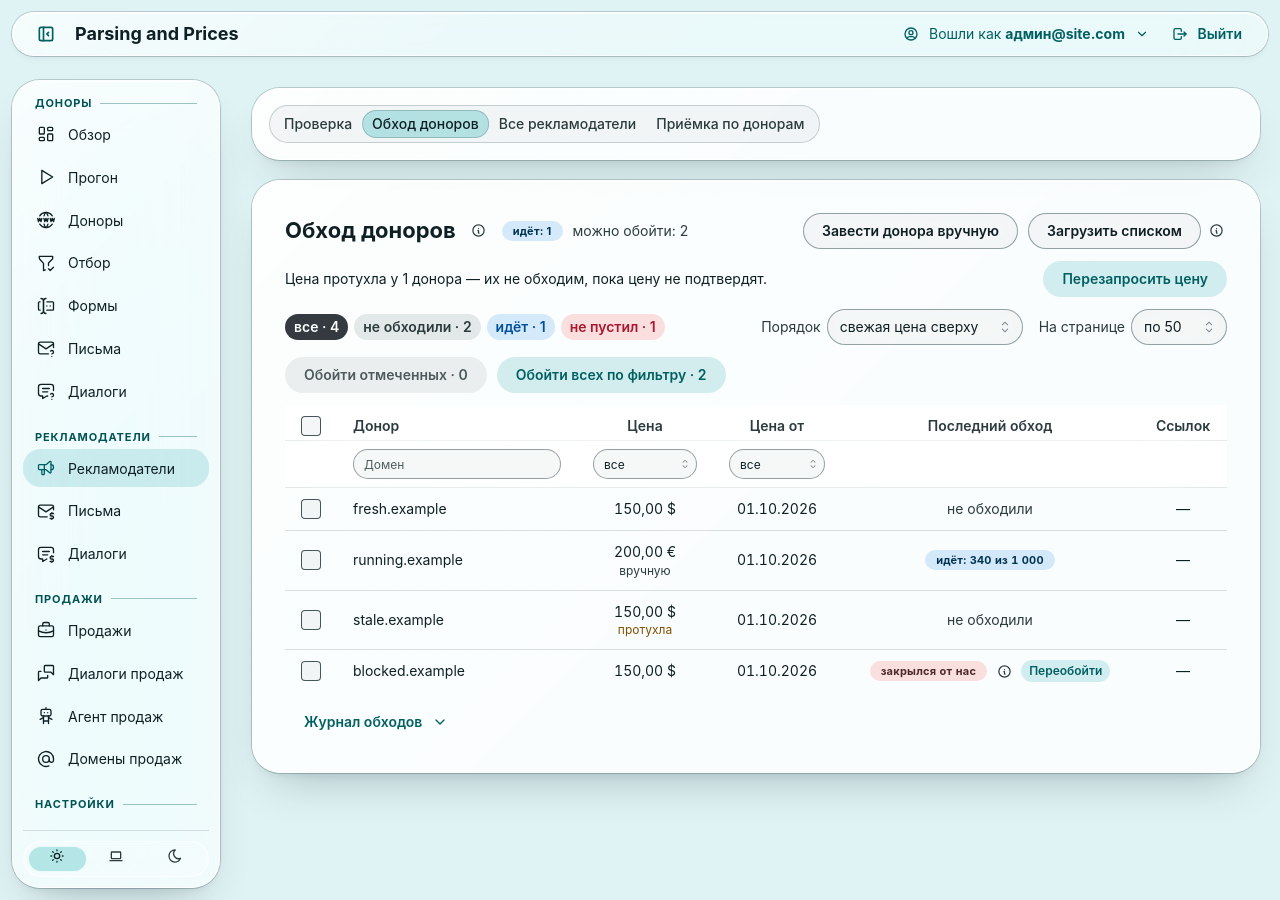
Scenario: вкладка «Обход доноров» › отмечается только тот, кого можно обойти; отмеченные уходят на сервер, исход — словами
Expected: the checkbox named "running.example: обход уже идёт или ждёт" is disabled, top-left (301, 550), bottom-right (321, 570)
Expected: the checkbox named "stale.example: цена протухла — сначала перезапрос" is disabled, top-left (301, 610), bottom-right (321, 630)
Step 1. Click the checkbox named "Обойти fresh.example" → point(311, 509), box top-left (301, 499), bottom-right (321, 519)
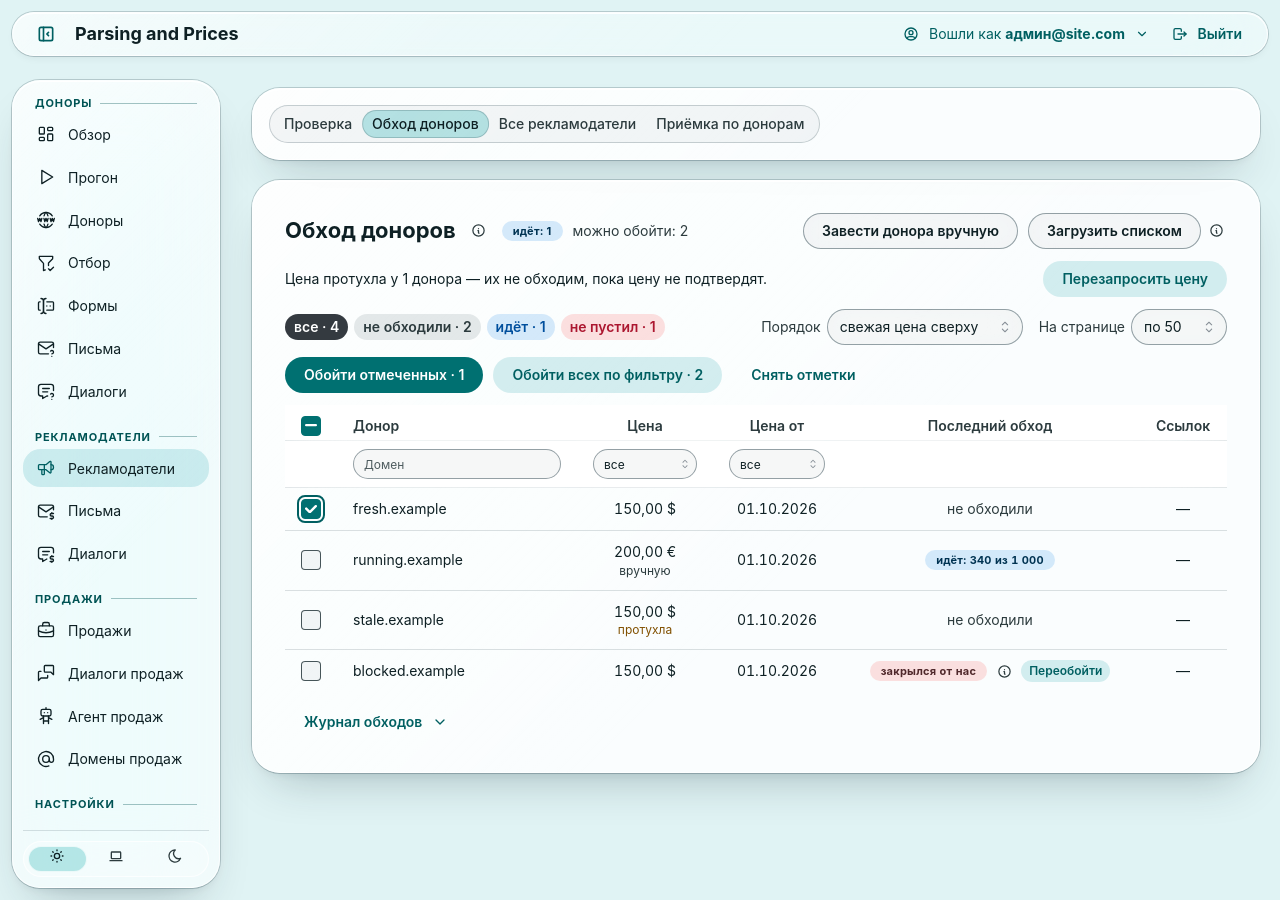
Step 2. Click the button "Обойти отмеченных · 1" → point(384, 375), box top-left (285, 357), bottom-right (483, 393)
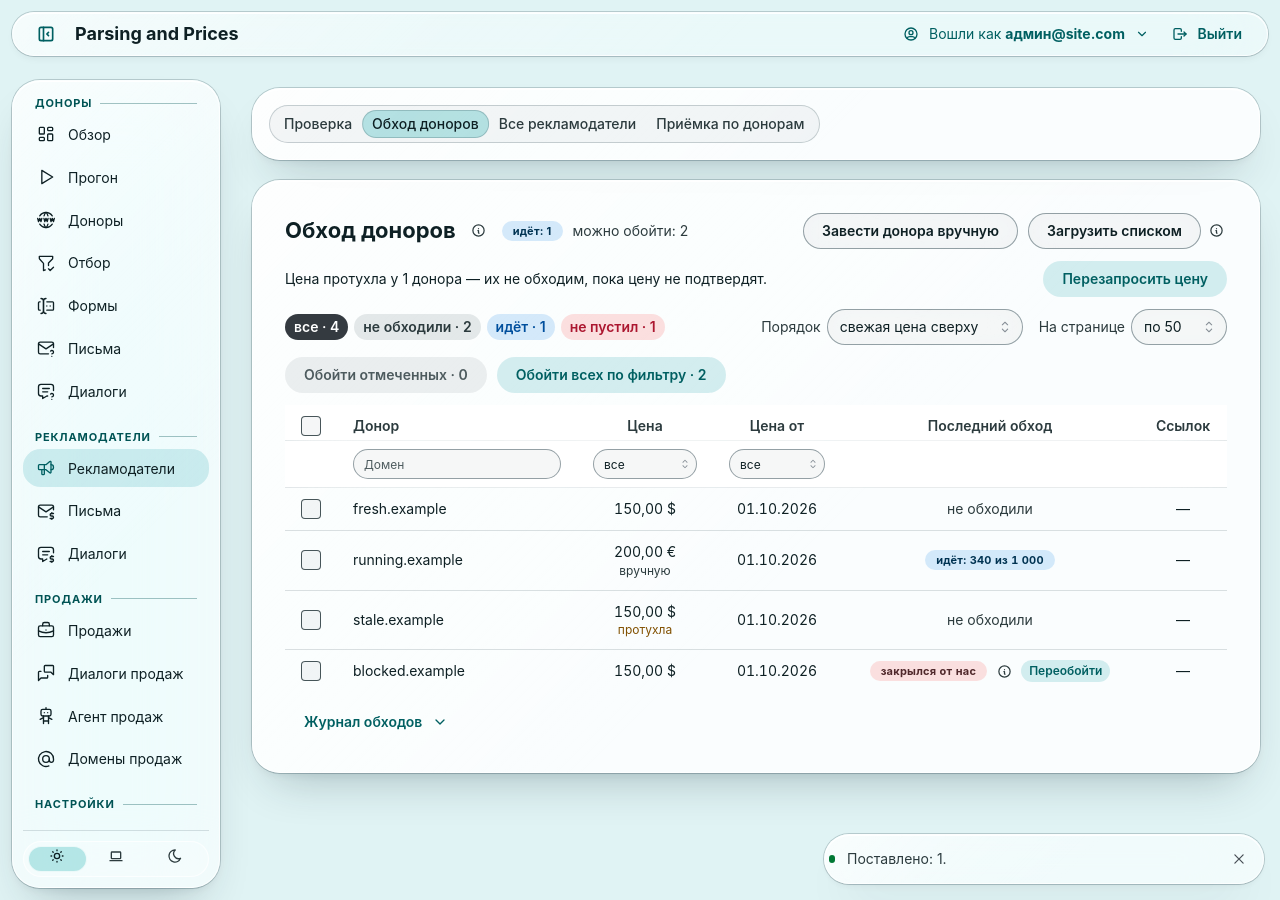
Result: the text "Поставлено: 1." is shown at top-left (847, 850), bottom-right (947, 867)
Result: the button "Обойти отмеченных · 0" is disabled at top-left (285, 357), bottom-right (487, 393)
